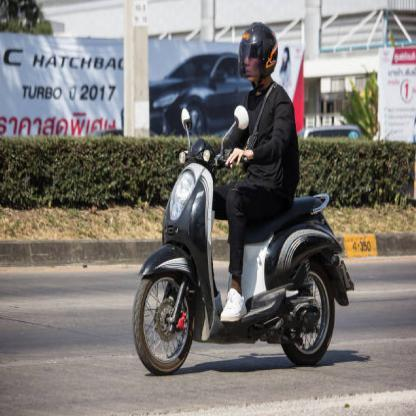Motorcycle: (131, 135, 349, 379)
